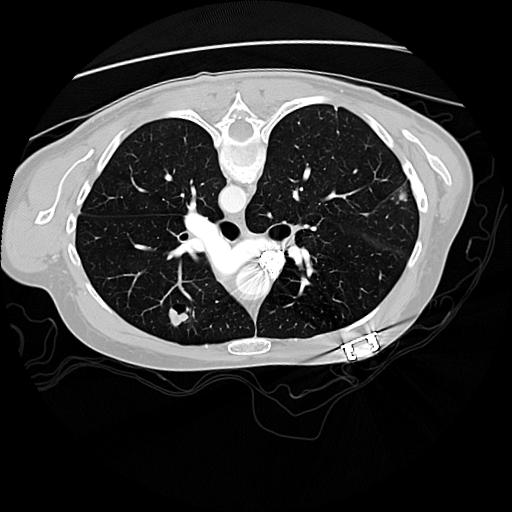nodule: (167, 305, 193, 331)
